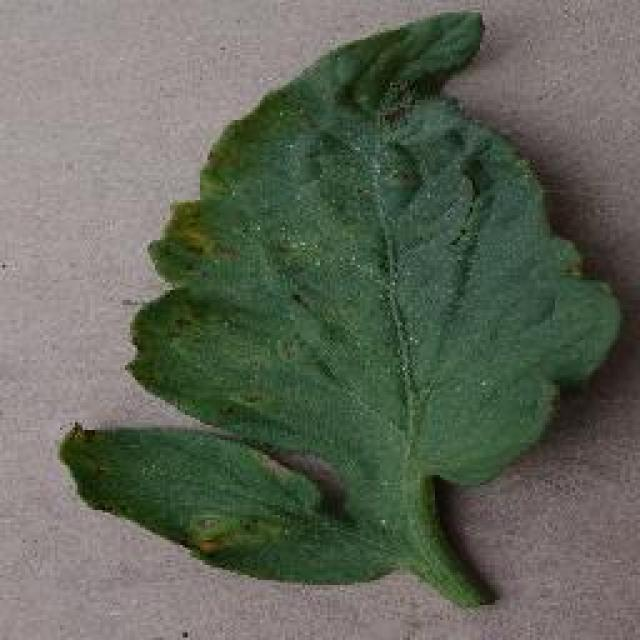bacterial spot: (58, 11, 629, 606)
